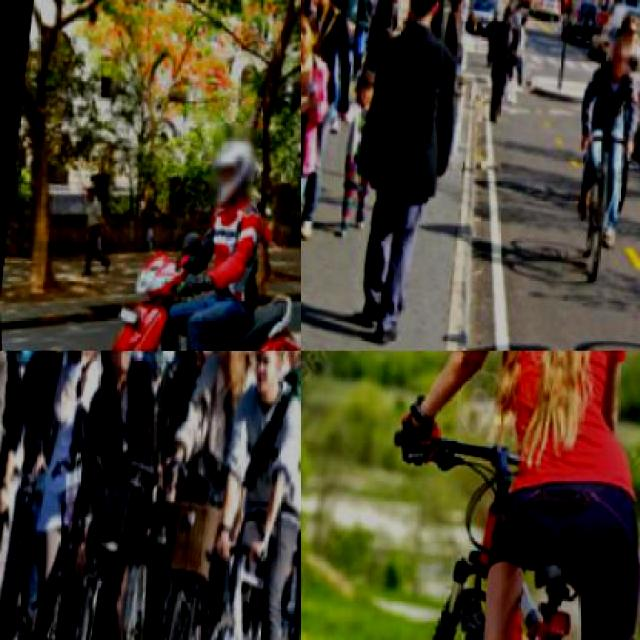With Helmet: (201, 122, 262, 213), (34, 350, 81, 368)
Without Helmet: (242, 351, 290, 398), (94, 351, 146, 386), (205, 351, 260, 382), (601, 33, 633, 78)
